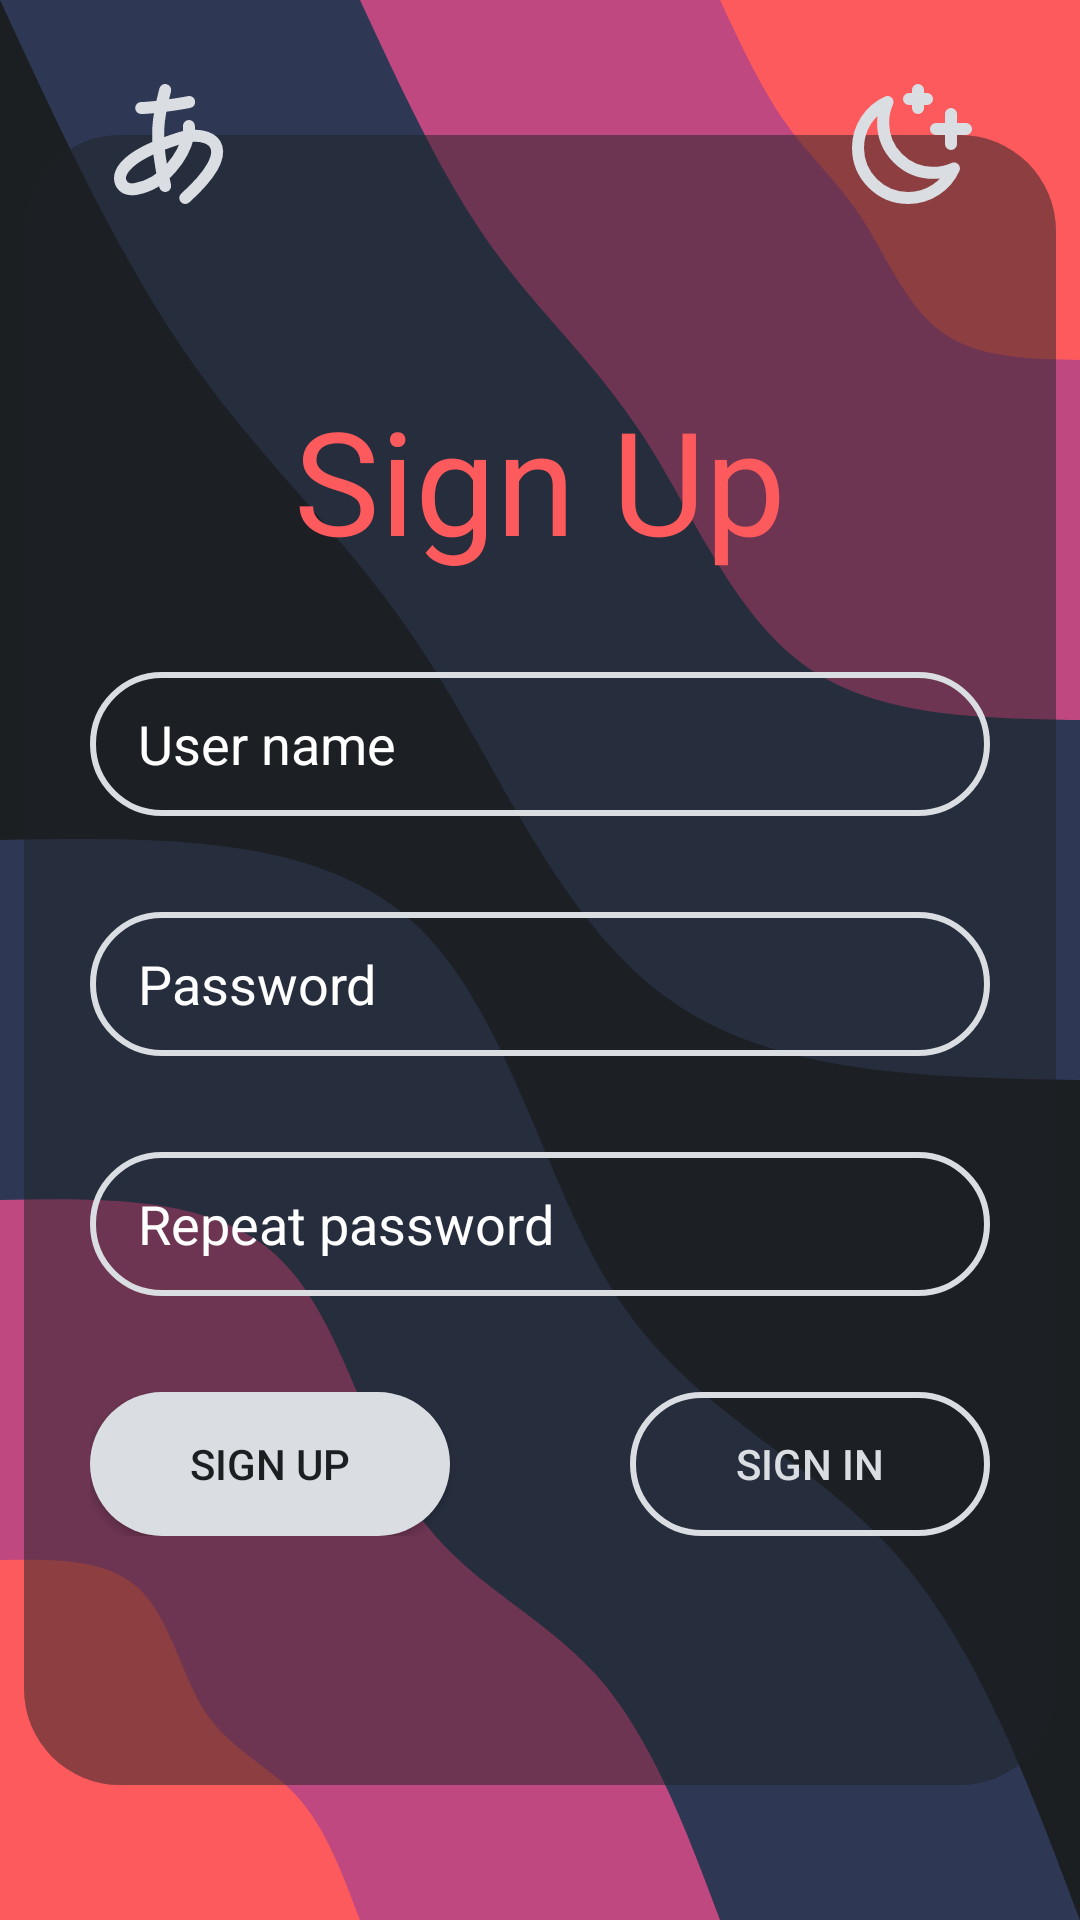

Icons on this 1080 x 1920 Android screen, each with the point to tap as (x=x, y=y):
letter japanese: (x=169, y=144)
moon stars: (x=912, y=144)
